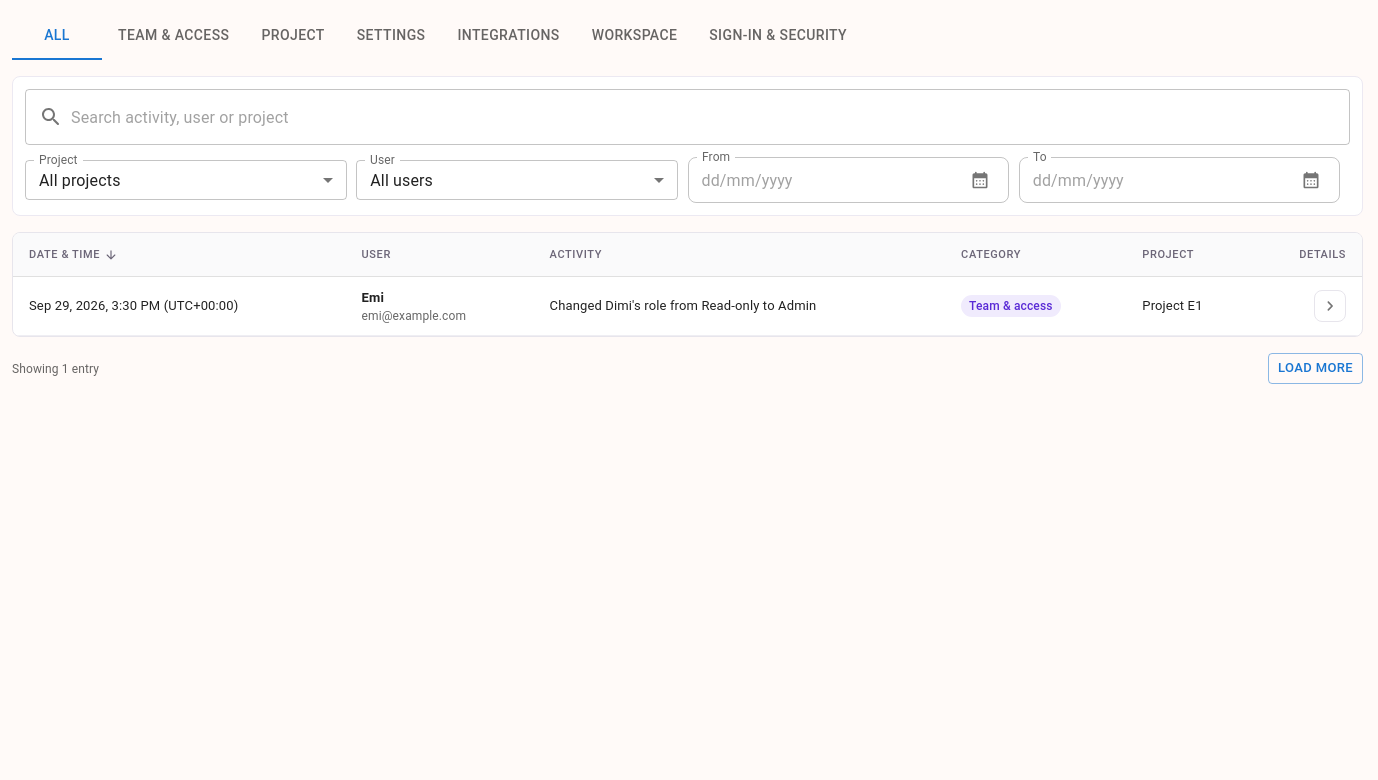
Test: Audit Logs › paginates, filters by activity and project, and shows empty and error states
Click the button "Load more" at (1316, 369), box [1268,354,1363,384]
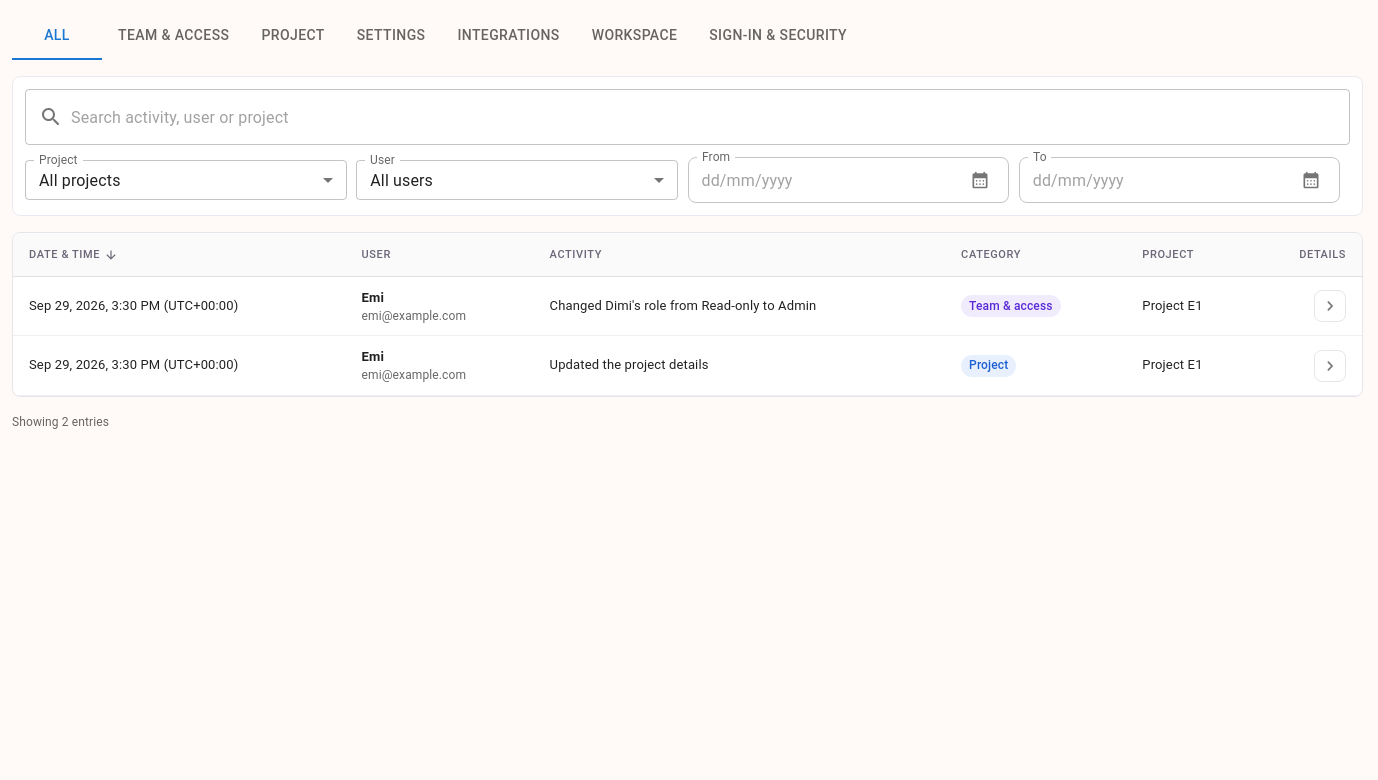
expect the text "Updated the project details" is shown: met, box [534,336,945,395]
Click the tab "Team & access" at (174, 36), box [102,12,245,60]
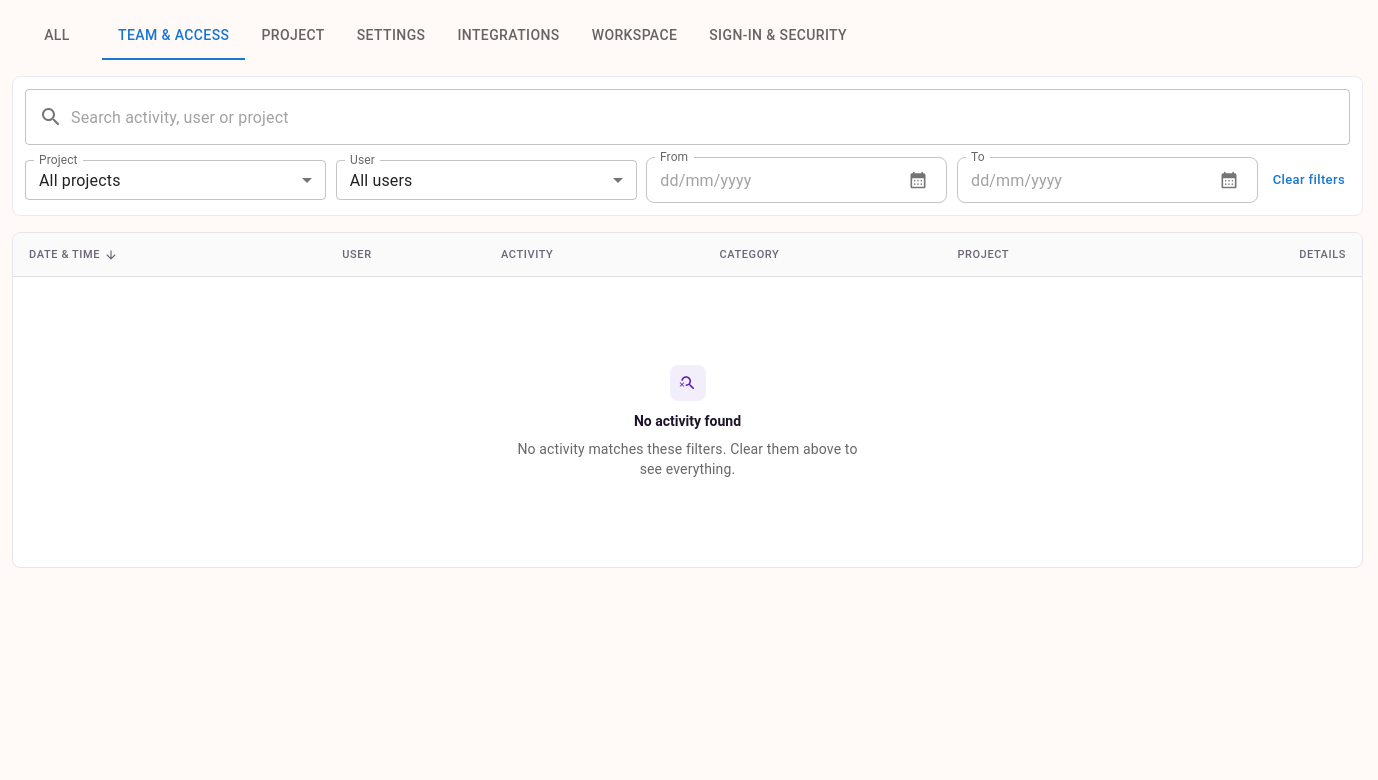
expect the text "No activity found" is shown: met, box [634,411,741,433]
Press the mouse on the dropdown labelled "project" at (80, 180), box [39,170,120,190]
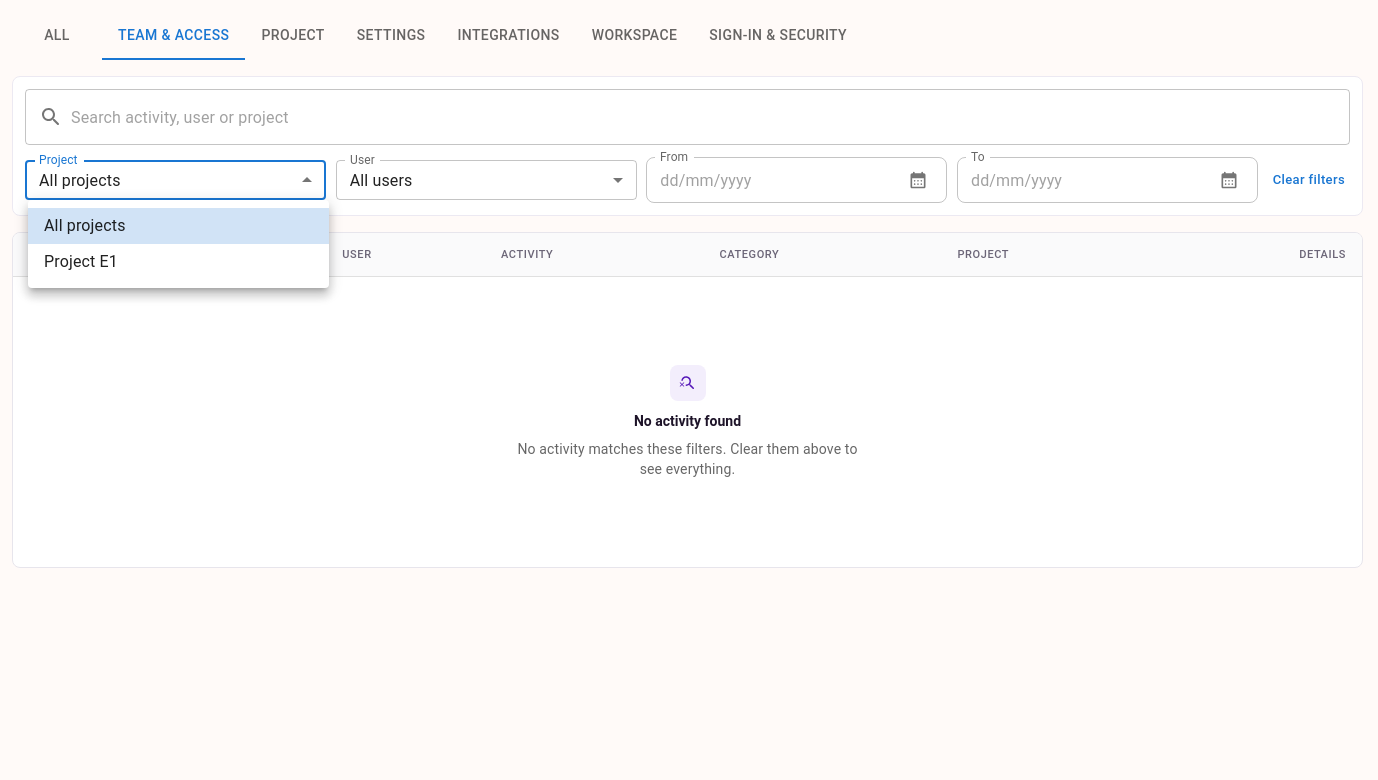
Click the option "Project E1" at (81, 262), box [44,252,118,271]
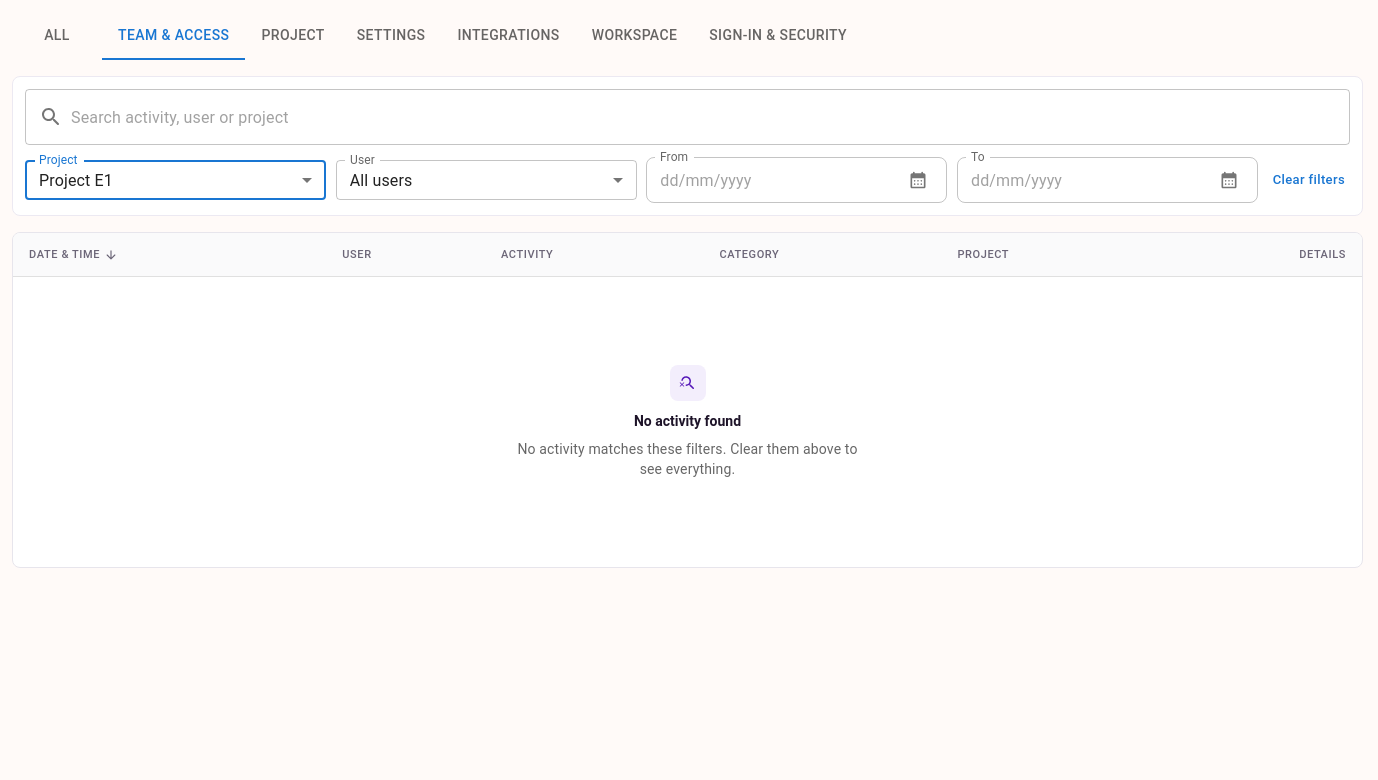
Click the button "Clear filters" at (1309, 180), box [1268,160,1350,200]
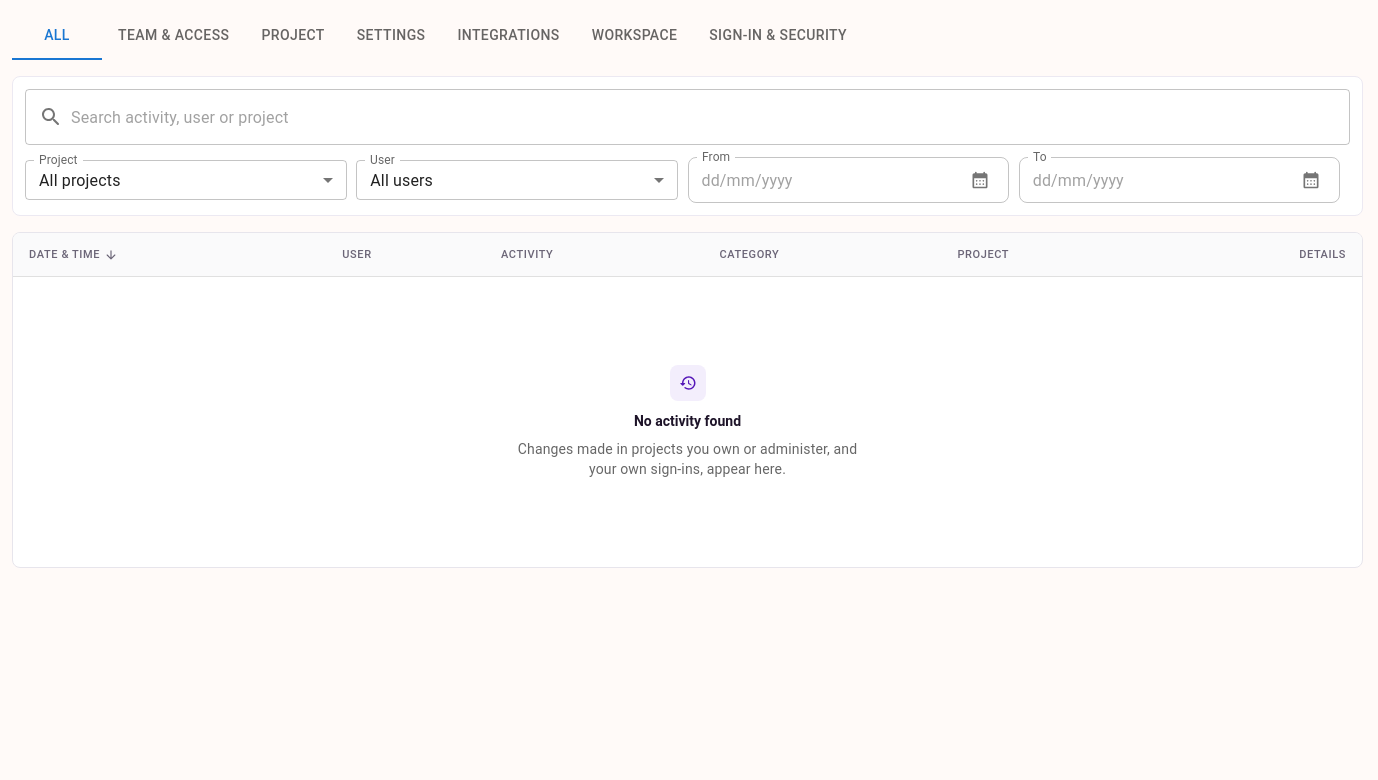
Click the tab "Workspace" at (634, 36), box [576,12,693,60]
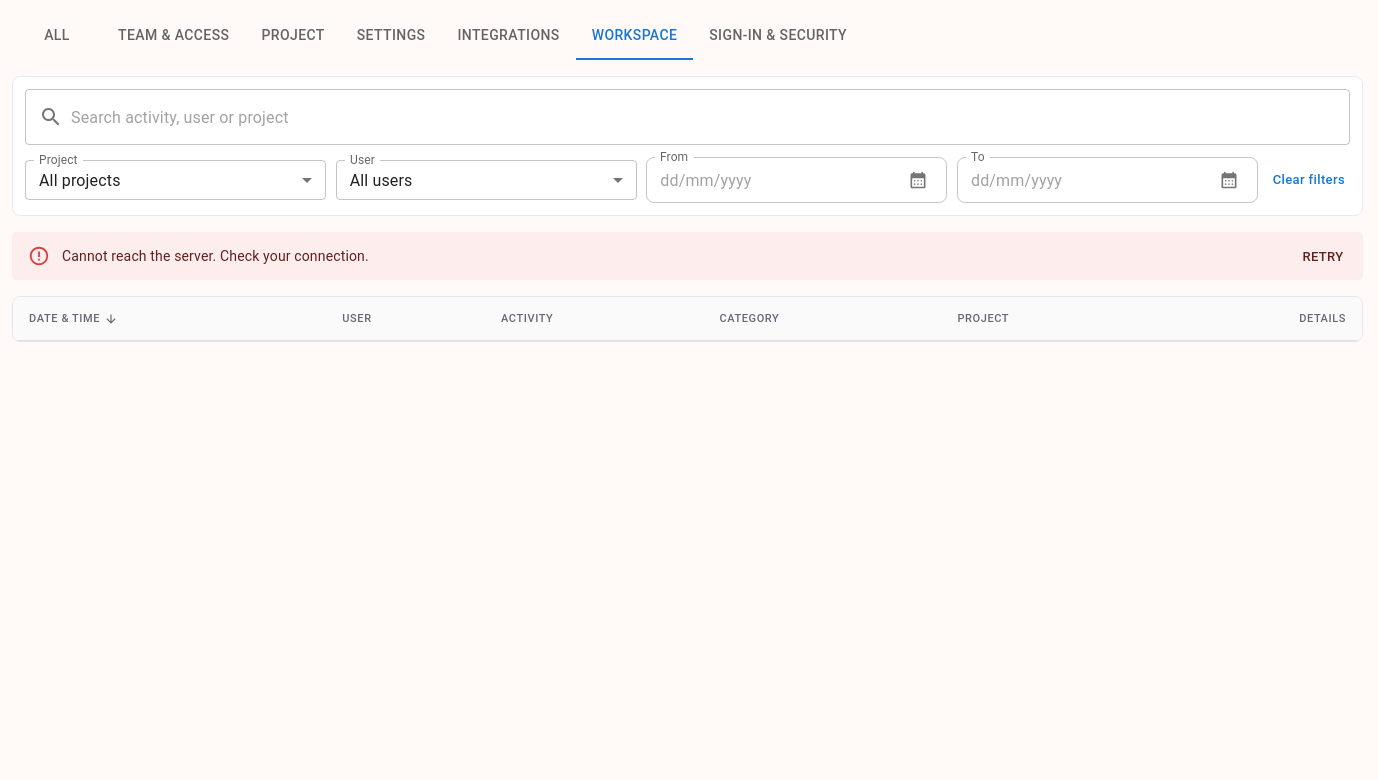
expect the text "Cannot reach the server. Check your connection." is shown: met, box [62,248,369,264]
